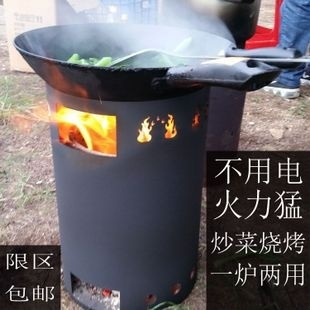fire: (33, 102, 119, 155), (135, 112, 177, 142)
